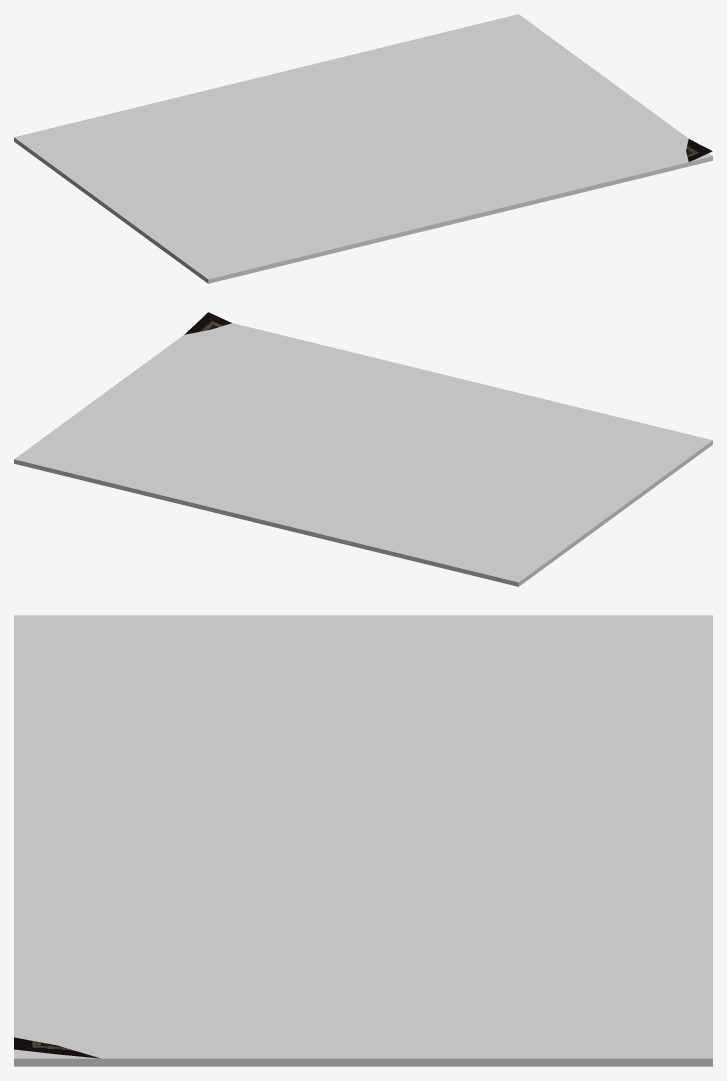
The model's file is rug.glb.
The picture shows the model from 3 angles, top to bottom: view 1: azimuth 30°, elevation 25°; view 2: azimuth 150°, elevation 25°; view 3: azimuth 270°, elevation 25°; orthographic projection. The views are drawn at different scales.
Parts seen in each view (by area): view 1: col_rug; view 2: col_rug, rug.001; view 3: col_rug, rug.001.
Boxes of the visible parts, bbox=[...] form: col_rug: bbox=[14, 14, 712, 283]; col_rug: bbox=[14, 323, 712, 586]; rug.001: bbox=[184, 312, 231, 334]; col_rug: bbox=[14, 615, 712, 1066]; rug.001: bbox=[14, 1037, 100, 1058].
Bounding box in the file's own units: 2.4 × 0.043 × 1.6.
Materials: 1 (1 with a texture image).
